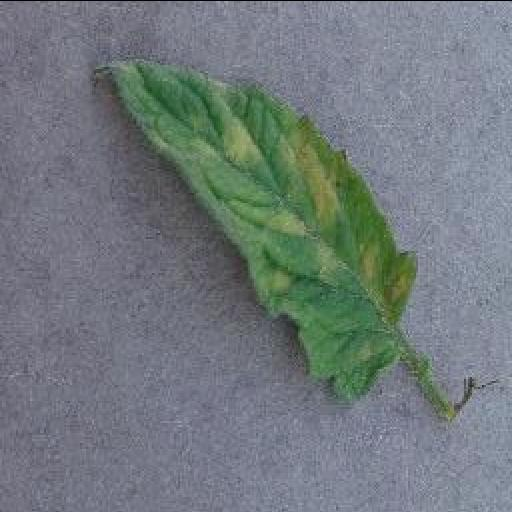disease_tomato: (94, 56, 426, 401)
